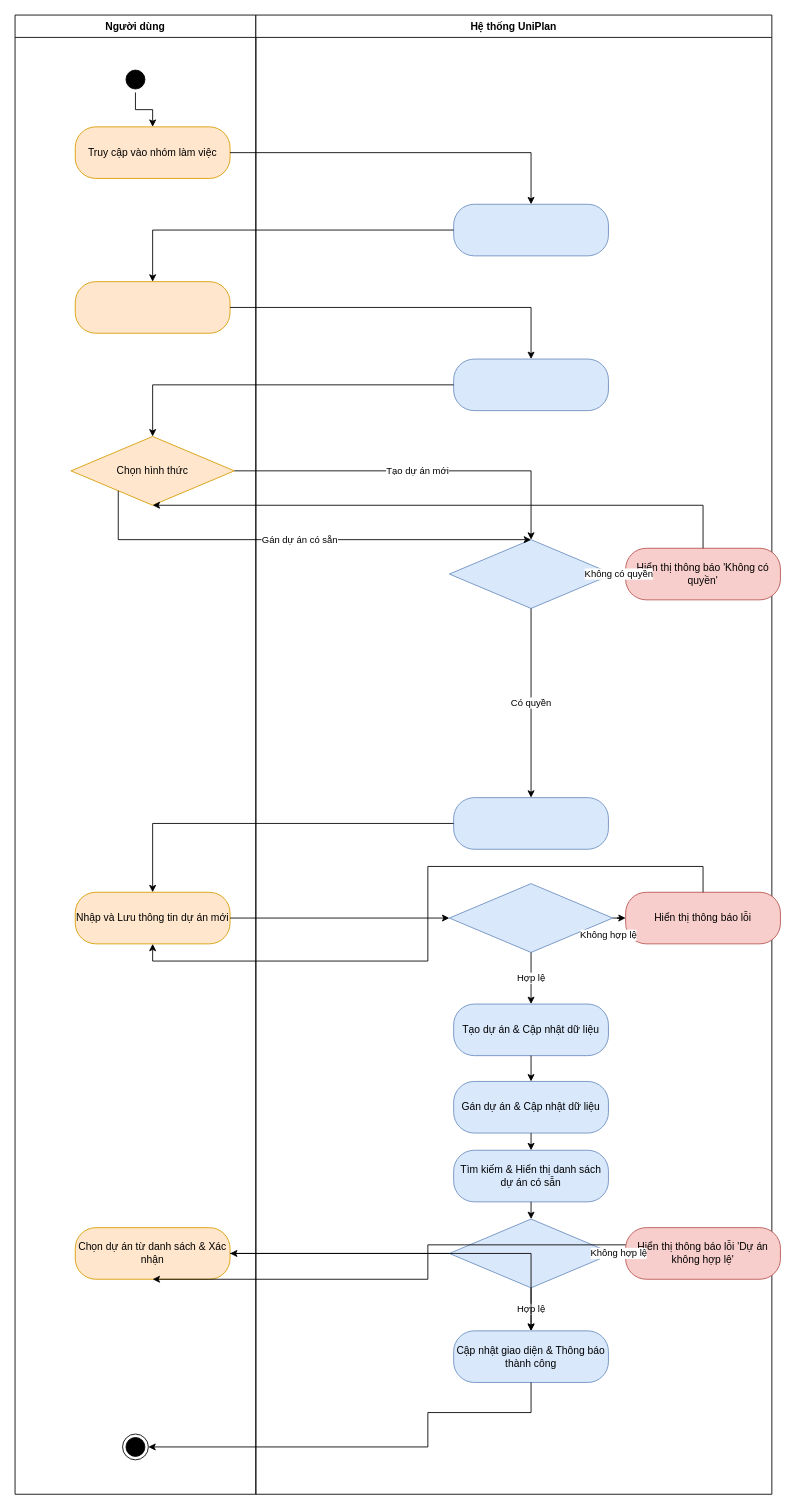
This 796x1509 diagram has some shape labels left out. The shapes that lost their labels are listed below. From the top down, each one's box as (x1, y1, x2, y2) in pixels, then its label:
(453, 203, 608, 256): Hiển thị giao diện nhóm làm việc
(74, 281, 230, 333): Chọn chức năng 'Quản lý dự án'
(453, 358, 608, 411): Hiển thị tùy chọn QL dự án
(448, 539, 613, 608): Kiểm tra quyền truy cập
(453, 797, 608, 849): Hiển thị form Tạo dự án mới
(448, 883, 613, 952): Kiểm tra thông tin hợp lệ
(448, 1218, 613, 1288): Kiểm tra trạng thái dự án
